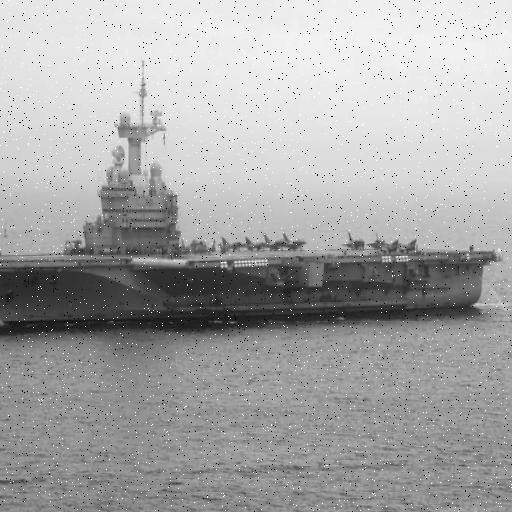Portanaves: (1, 52, 508, 335)
